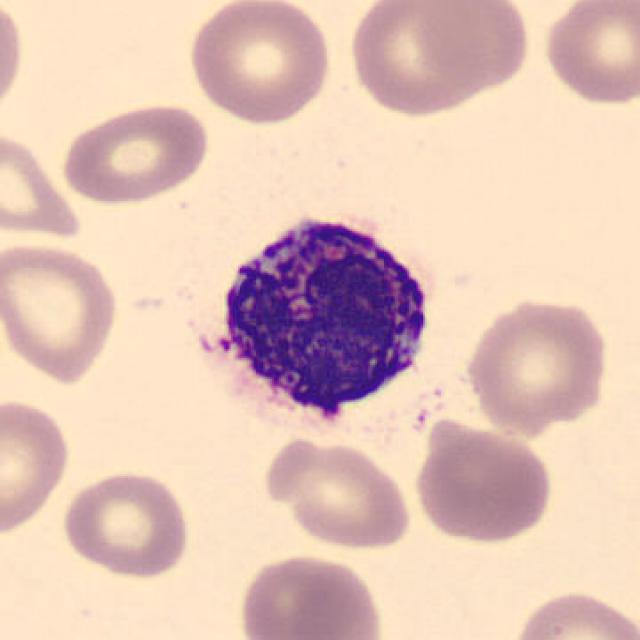Basophil: (186, 199, 444, 448)
RBC: (461, 292, 612, 436), (183, 0, 336, 127), (345, 0, 503, 120), (0, 236, 123, 386), (261, 437, 418, 552), (411, 422, 556, 546), (57, 99, 213, 206), (57, 467, 194, 580), (234, 550, 386, 640), (412, 0, 534, 92), (0, 393, 73, 540), (539, 0, 638, 108), (0, 123, 85, 241), (507, 585, 638, 640), (0, 0, 27, 122)
